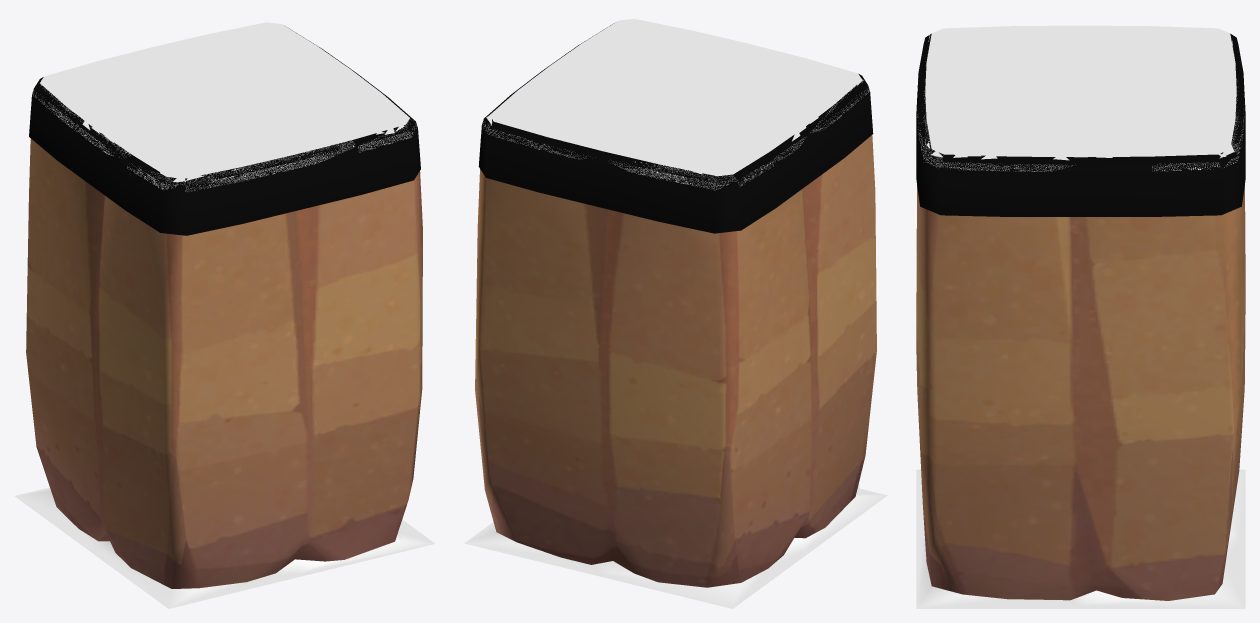
3 renders of one model, left to right at view 1: azimuth 30°, elevation 25°; view 2: azimuth 150°, elevation 25°; view 3: azimuth 270°, elevation 25°, orthographic. The views are drawn at different scales.
Visible parts, largest first — view 1: Cliff__mCliff, GrassT__mGrass, GrassOP__mGrassCliffXlu, GrassB__mGrass; view 2: Cliff__mCliff, GrassT__mGrass, GrassOP__mGrassCliffXlu, GrassB__mGrass, PGrassBA__mProcGrass; view 3: Cliff__mCliff, GrassT__mGrass, GrassOP__mGrassCliffXlu, GrassB__mGrass, PGrassBA__mProcGrass.
Part boxes in pixels (<box>): Cliff__mCliff: <box>26,138,422,588</box>; GrassT__mGrass: <box>32,22,416,191</box>; GrassOP__mGrassCliffXlu: <box>29,25,420,235</box>; GrassB__mGrass: <box>14,487,435,608</box>; Cliff__mCliff: <box>475,135,876,587</box>; GrassT__mGrass: <box>483,19,869,190</box>; GrassOP__mGrassCliffXlu: <box>478,23,873,233</box>; GrassB__mGrass: <box>464,488,887,608</box>; PGrassBA__mProcGrass: <box>486,77,863,530</box>; Cliff__mCliff: <box>916,185,1245,600</box>; GrassT__mGrass: <box>917,25,1243,171</box>; GrassOP__mGrassCliffXlu: <box>916,33,1245,216</box>; GrassB__mGrass: <box>916,469,1245,608</box>; PGrassBA__mProcGrass: <box>925,34,1234,160</box>.
Bounding box in the file's own units: 10 × 15.42 × 10.
4 materials, 1 textured.
